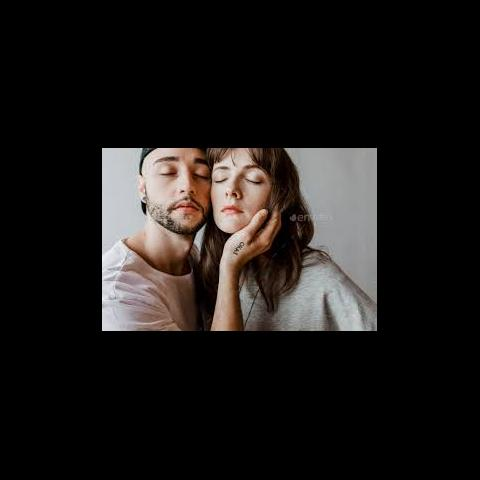closed: (149, 155, 212, 185), (214, 166, 267, 191)
